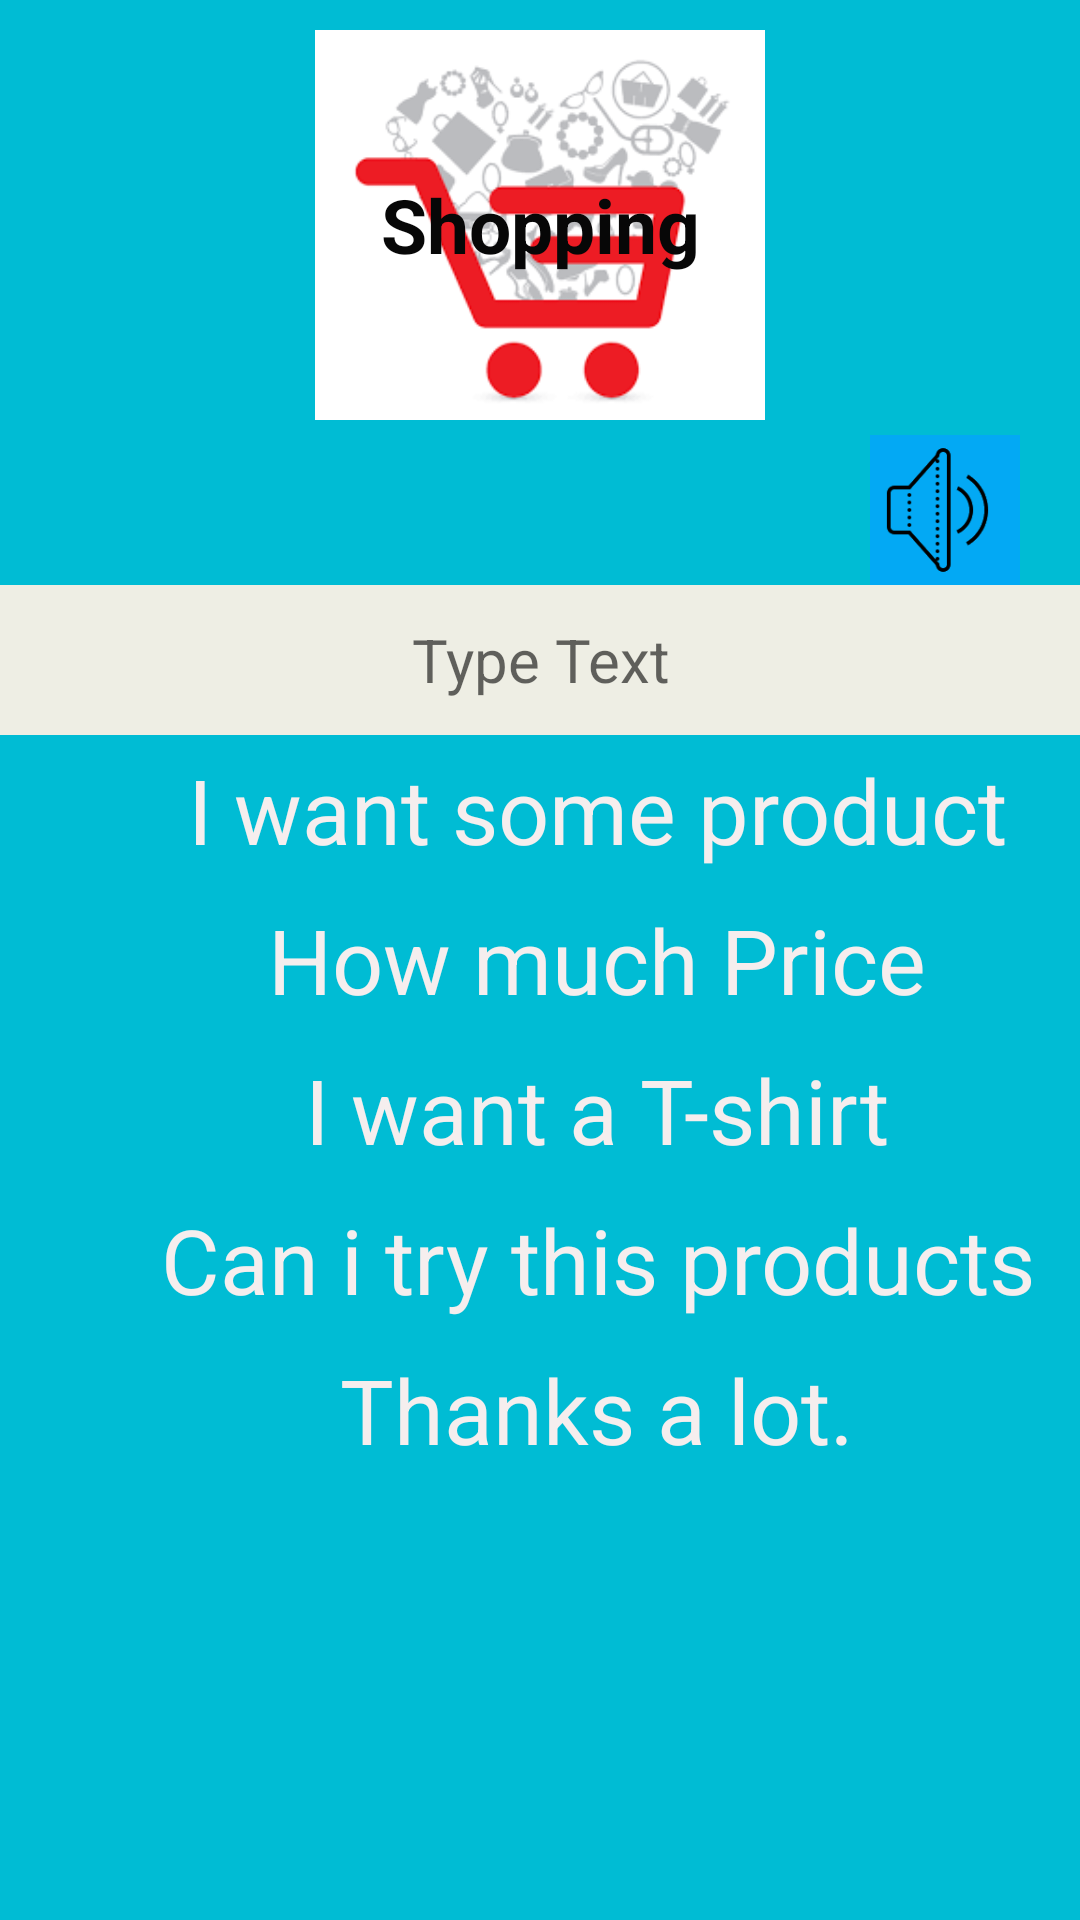

Where icons sit on this 1080px x 1920px app screen, as {"left": x1, "top": y1, "right": x2, "bottom": y2}:
speka: {"left": 870, "top": 435, "right": 1020, "bottom": 585}
